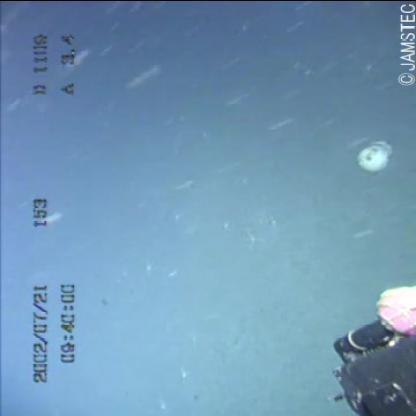Rov: (310, 278, 415, 415)
Rác: (350, 123, 404, 183)
